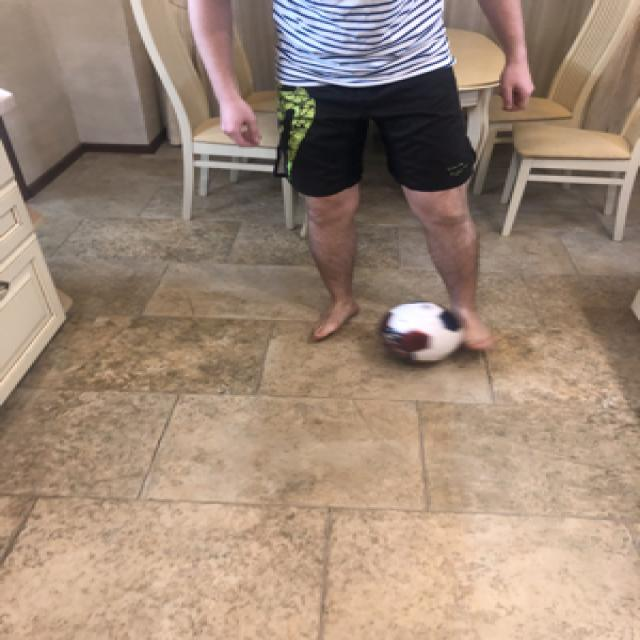soccer_ball: (373, 299, 463, 365)
